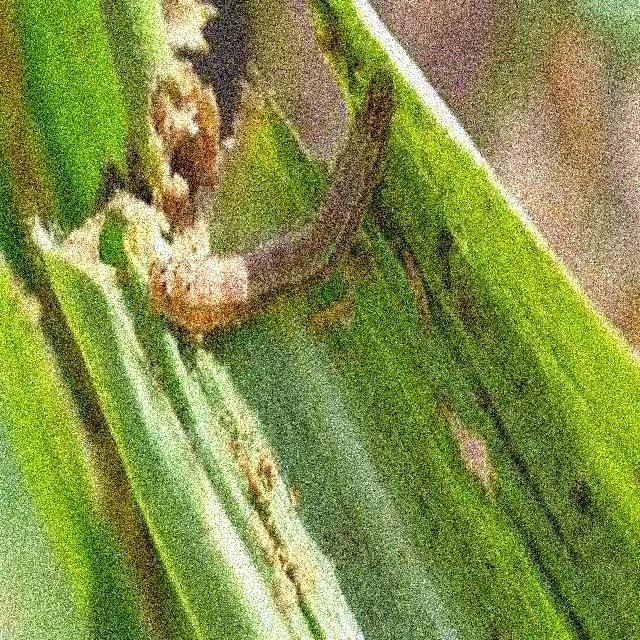Plaga: (144, 65, 401, 335)
